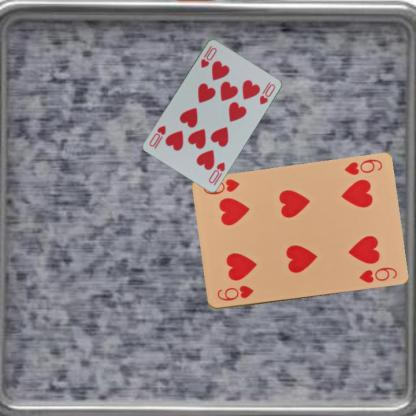10h: (198, 43, 218, 69), (206, 160, 226, 184)
6h: (342, 156, 383, 177), (214, 283, 255, 303)
